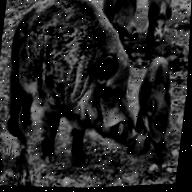boar: (0, 0, 148, 162), (131, 50, 189, 169), (142, 0, 178, 52), (104, 0, 147, 38)
